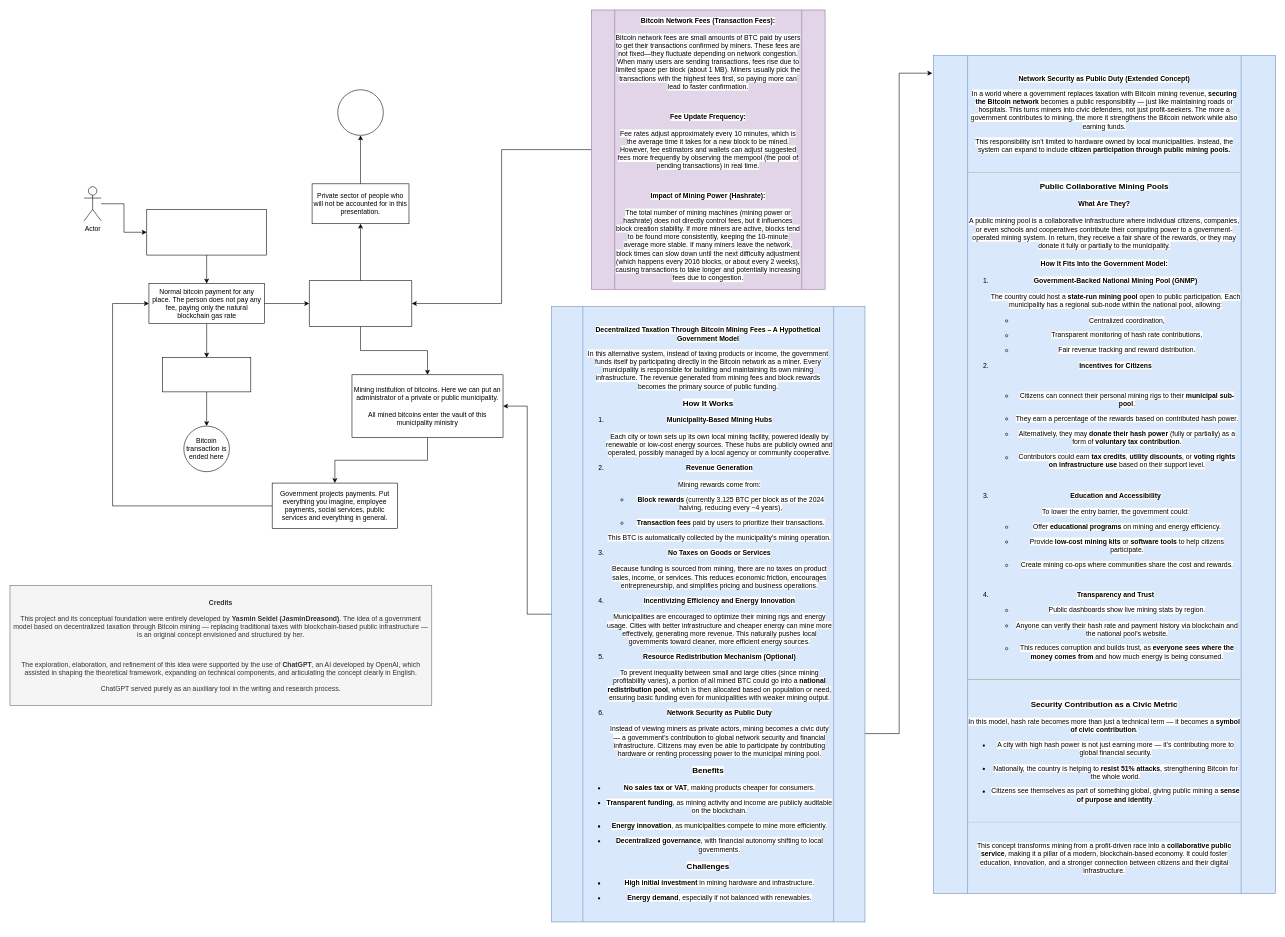
This 1285x937 diagram has some shape labels left out. Here are the shapes that lost their labels. From the top down, the centre of each, then its label:
At (x=360, y=112): "Private sector ends here".
At (x=206, y=232): "A normal person using bitcoin".
At (x=360, y=303): "Natural blockchain transaction gas rate withdrawn from payment".
At (x=206, y=374): "The person who will receive the payment".
